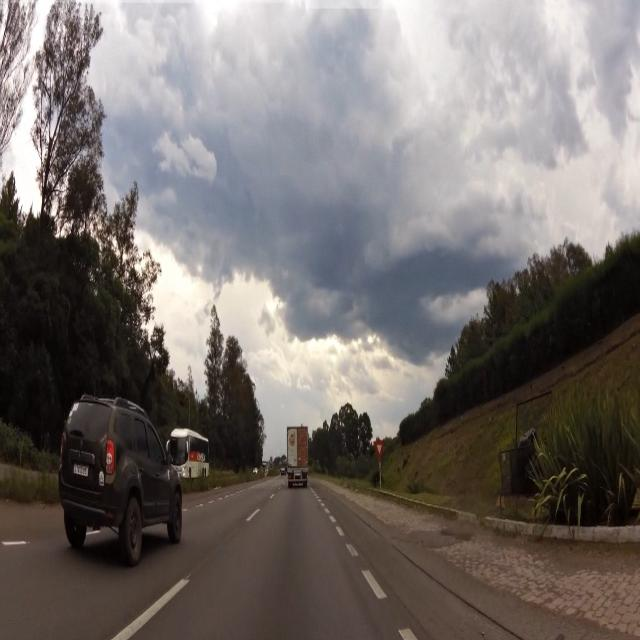R-2: (374, 441, 386, 459)
